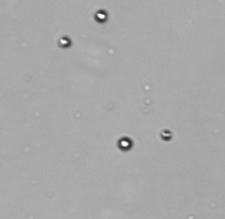Dead Cell: (160, 127, 172, 140)
Living Cell: (116, 136, 132, 150), (59, 37, 71, 48), (96, 10, 106, 21)
